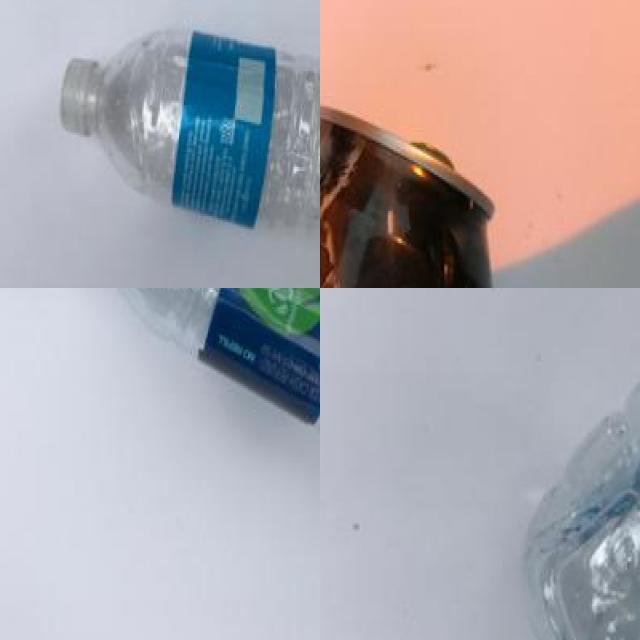plastic: (46, 13, 320, 275), (15, 288, 320, 506), (518, 330, 640, 640), (320, 107, 506, 288)
